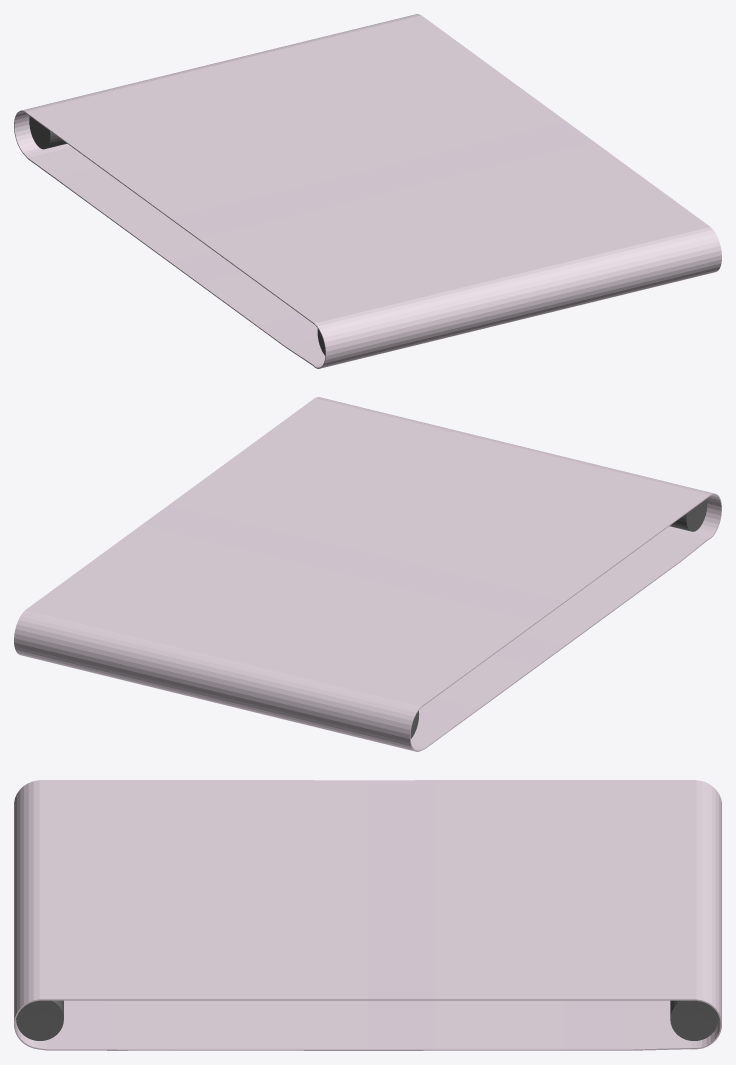
The model's file is Conveyorbelt.fbx.
3 renders of one model, top to bottom at view 1: azimuth 30°, elevation 25°; view 2: azimuth 150°, elevation 25°; view 3: azimuth 270°, elevation 25°, orthographic. The views are drawn at different scales.
Visible parts, largest first — view 1: Band, Back Spinner; view 2: Band, Front Spinner; view 3: Band, Back Spinner, Front Spinner.
Boxes of the visible parts, x1,y1,x2,y2 form: Band: [14, 14, 721, 368]; Back Spinner: [29, 116, 66, 149]; Band: [14, 397, 721, 751]; Front Spinner: [669, 499, 707, 531]; Band: [14, 780, 721, 1050]; Back Spinner: [670, 1000, 718, 1040]; Front Spinner: [16, 1000, 63, 1040].
Bounding box in the file's own units: 173 × 13.89 × 128.
